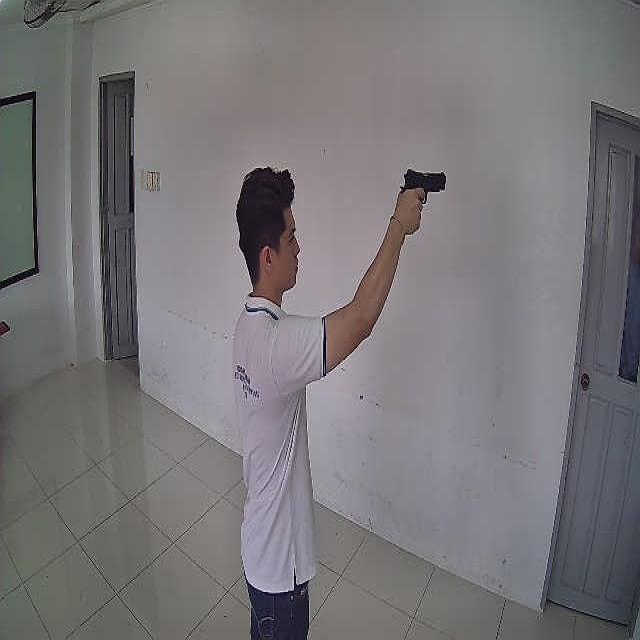pistol: (400, 169, 446, 204)
